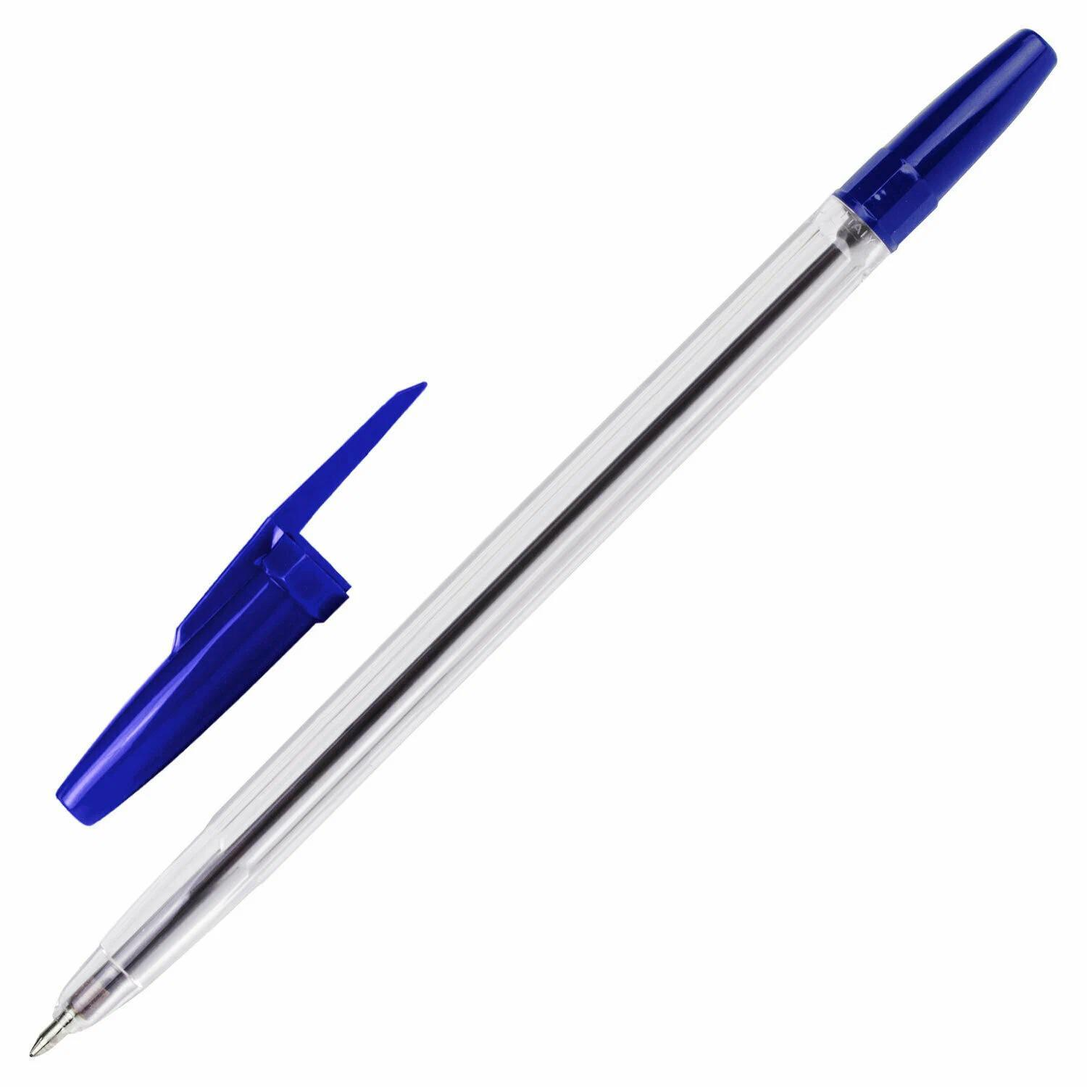pen-pencil: (32, 30, 1055, 1055), (57, 383, 423, 825)
